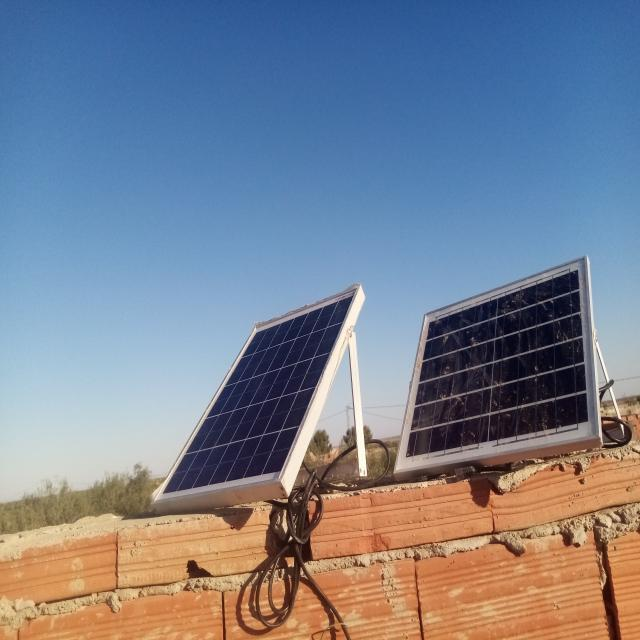faulty: (394, 256, 601, 472)
no faulty: (153, 286, 359, 502)
